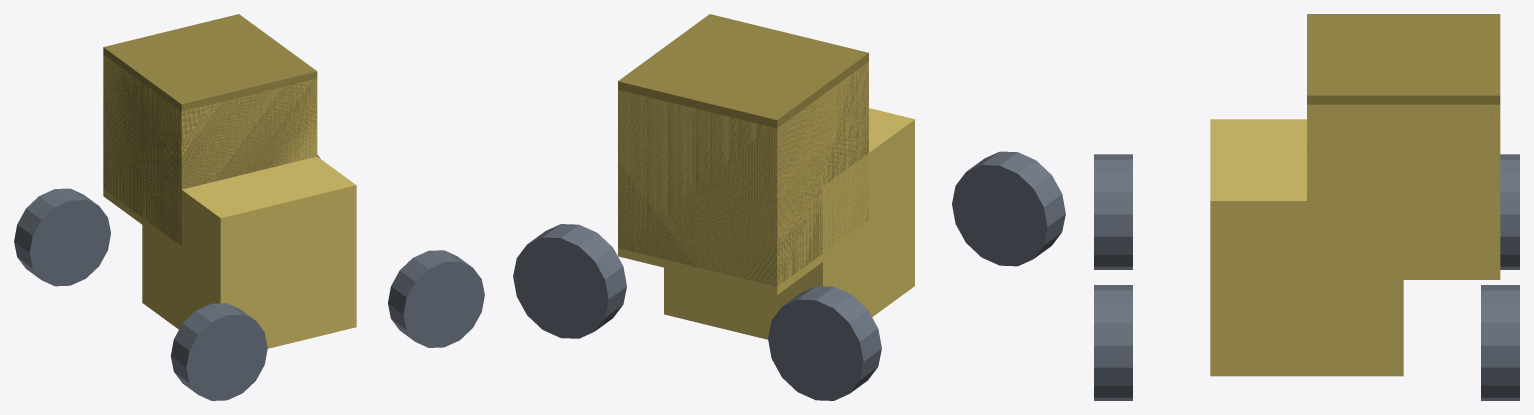
File: veh_car_hatchback_yellow.glb
The picture shows the model from 3 angles, left to right: view 1: azimuth 30°, elevation 25°; view 2: azimuth 150°, elevation 25°; view 3: azimuth 270°, elevation 25°; orthographic projection. The views are drawn at different scales.
Parts seen in each view (by area): view 1: world; view 2: world; view 3: world.
Boxes of the visible parts, bbox=[...] form: world: bbox=[14, 14, 484, 400]; world: bbox=[513, 14, 1065, 400]; world: bbox=[1094, 14, 1519, 400].
Size of the model in its own units: 2.2 by 1.6 by 2.2.
